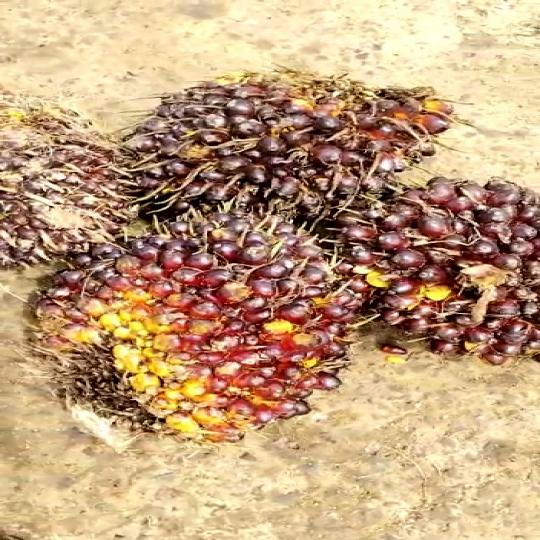kurang masak: (17, 224, 335, 448), (136, 76, 473, 222), (325, 180, 540, 380), (0, 90, 142, 285)
